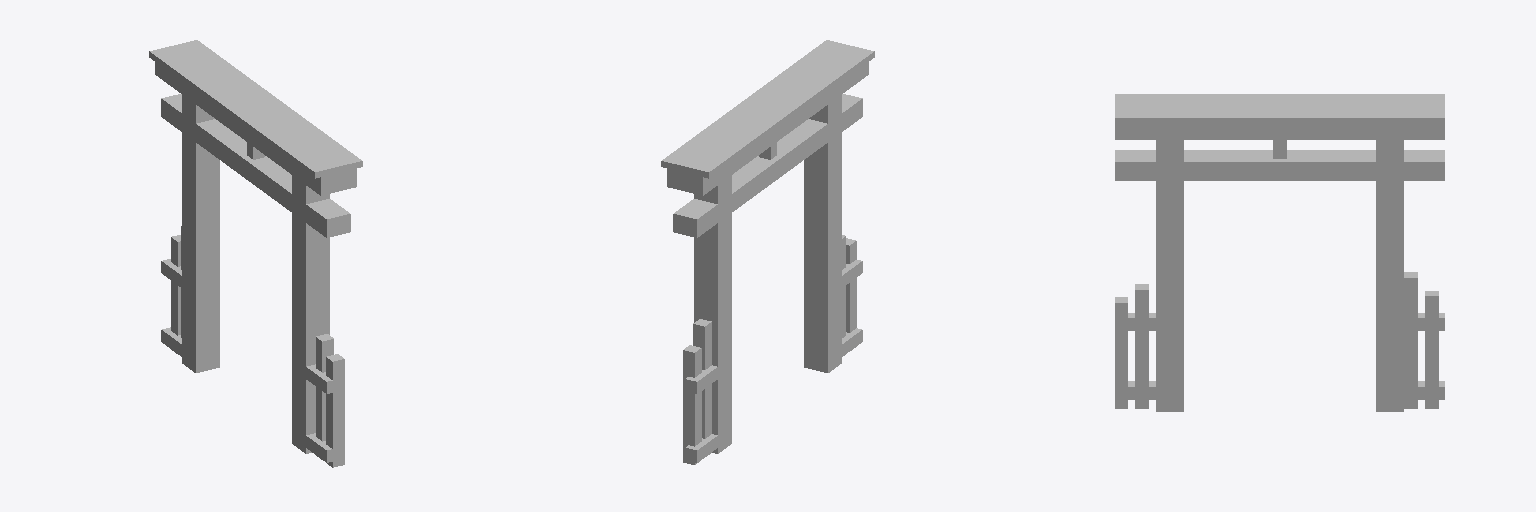
File: japaneseGate-0.obj
3 views of the same model, side by side, from view 1: azimuth 30°, elevation 25°; view 2: azimuth 150°, elevation 25°; view 3: azimuth 270°, elevation 25° (orthographic).
Visible parts, largest first — view 1: object 1; view 2: object 1; view 3: object 1.
Part boxes in pixels (bbox=[...]): object 1: bbox=[149, 40, 362, 467]; object 1: bbox=[661, 40, 874, 464]; object 1: bbox=[1115, 94, 1444, 411].
Bounding box in the file's own units: 0.8 × 4.8 × 4.8.